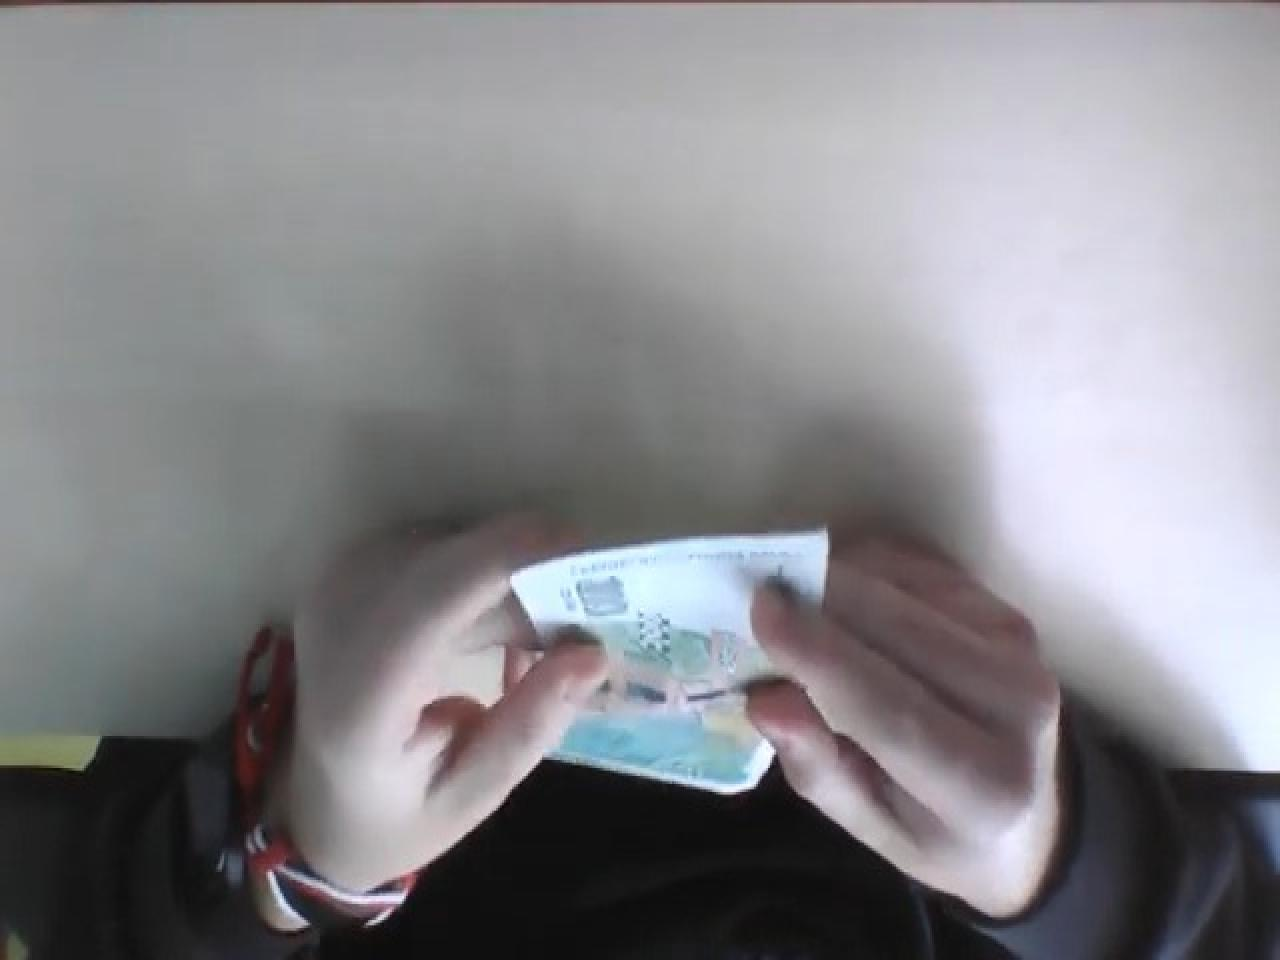100leva: (506, 522, 834, 801)
